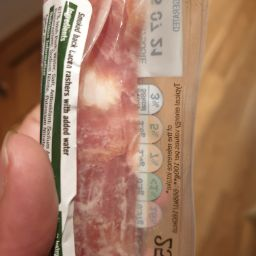Bacon: (78, 1, 167, 256), (87, 4, 155, 256)
